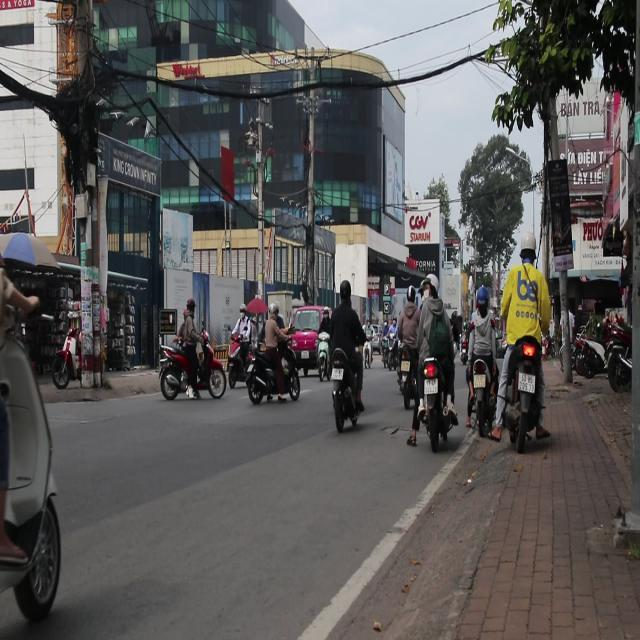motorbike: (1, 247, 67, 636), (160, 340, 227, 400), (508, 345, 543, 455), (242, 344, 304, 404), (330, 346, 366, 432), (417, 356, 448, 450), (573, 312, 612, 381), (462, 353, 488, 441), (51, 325, 82, 391), (604, 319, 632, 392), (396, 348, 416, 410), (316, 332, 332, 380), (381, 330, 398, 370)
truck: (286, 308, 332, 377)
